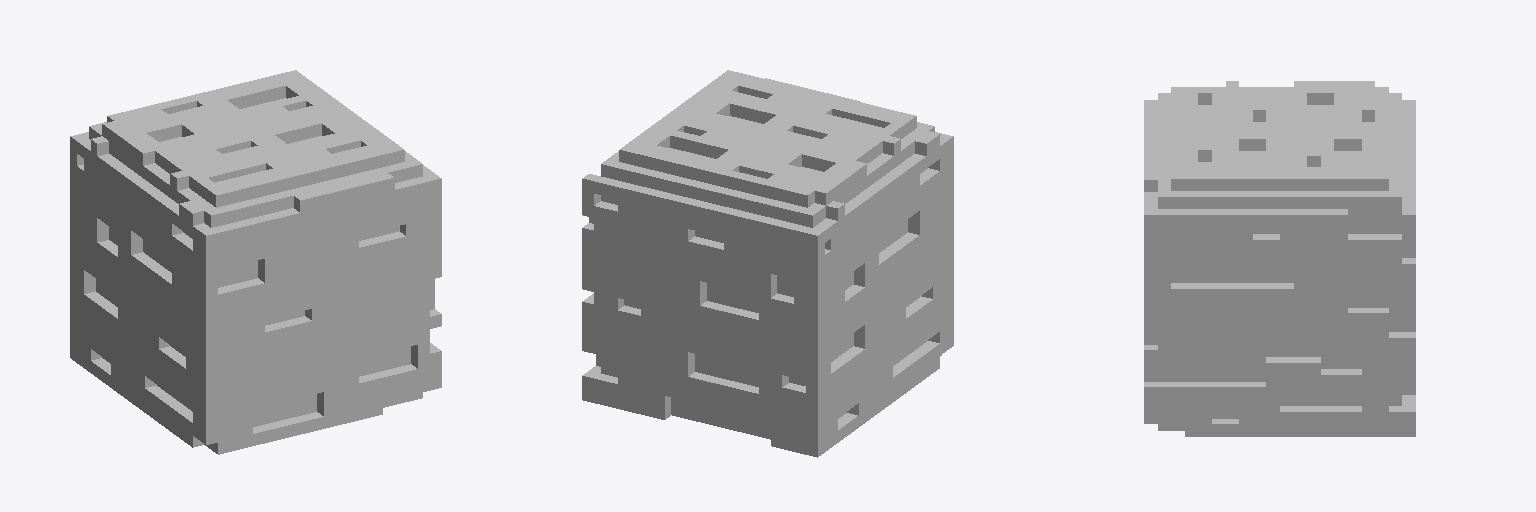
The model's file is Small Rock.obj.
3 views of the same model, side by side, from view 1: azimuth 30°, elevation 25°; view 2: azimuth 150°, elevation 25°; view 3: azimuth 270°, elevation 25° (orthographic).
Parts seen in each view (by area): view 1: object 1; view 2: object 1; view 3: object 1.
Boxes of the visible parts, x1,y1,x2,y2 form: object 1: [70, 70, 441, 454]; object 1: [582, 70, 953, 457]; object 1: [1144, 81, 1415, 436].
Size of the model in its own units: 2 by 2 by 2.